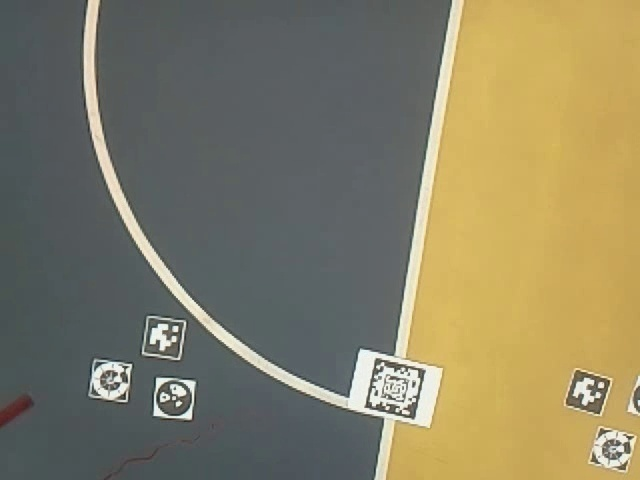landing-zone: (85, 354, 139, 407), (590, 424, 640, 474)
